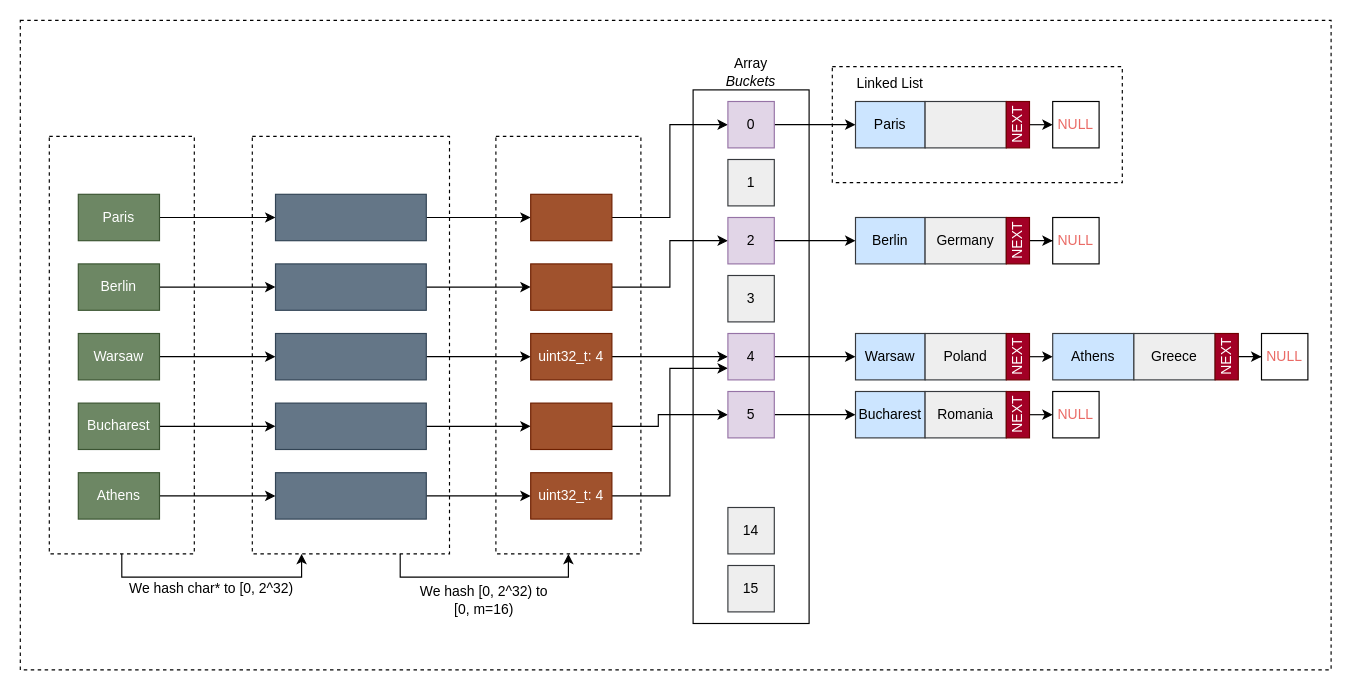
This 1351x690 diagram has some shape labels left out. Here are the shapes that lost their labels. From the top down, the box of each, then its label:
(924, 100, 1006, 148): France
(274, 193, 426, 241): uint32_t: 232639524
(530, 193, 612, 241): uint32_t: 0
(274, 263, 426, 310): uint32_t: 2838988225
(530, 263, 612, 310): uint32_t: 2
(274, 332, 426, 380): uint32_t: 3656095162
(274, 402, 426, 449): uint32_t: 2999025862
(530, 402, 612, 449): uint32_t: 5
(274, 472, 426, 519): uint32_t: 2817274824
